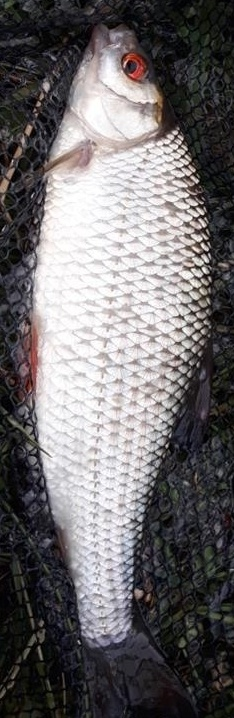Rutilus rutilus: (20, 20, 214, 698)
